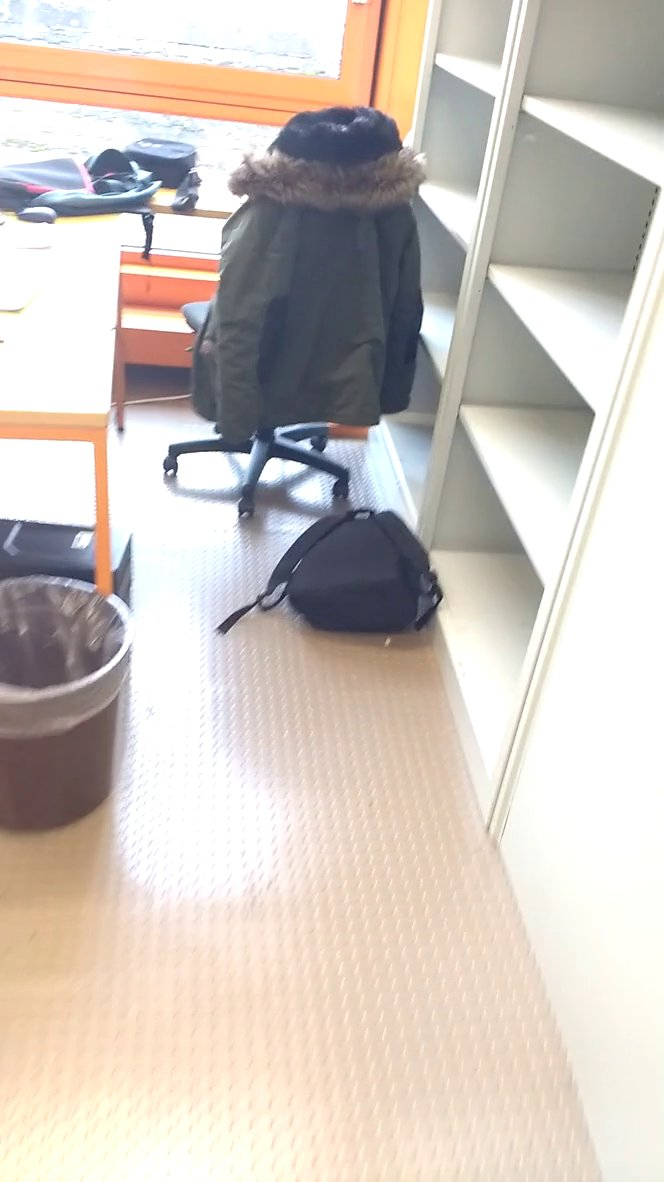bag: (208, 502, 459, 653)
bin: (1, 559, 142, 848)
